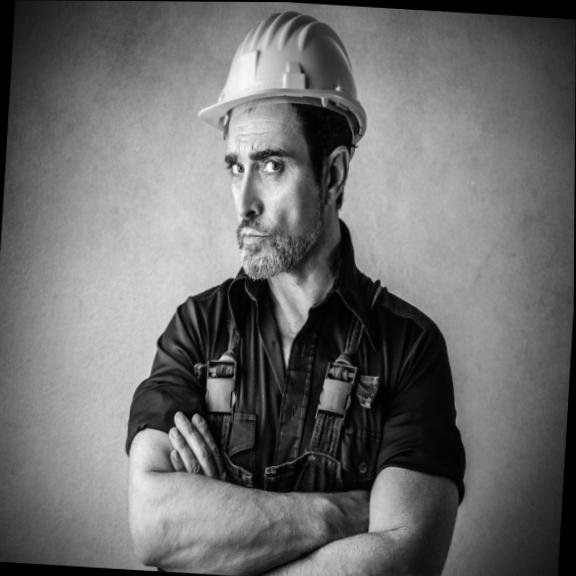no_safety_vest: (132, 257, 472, 553)
